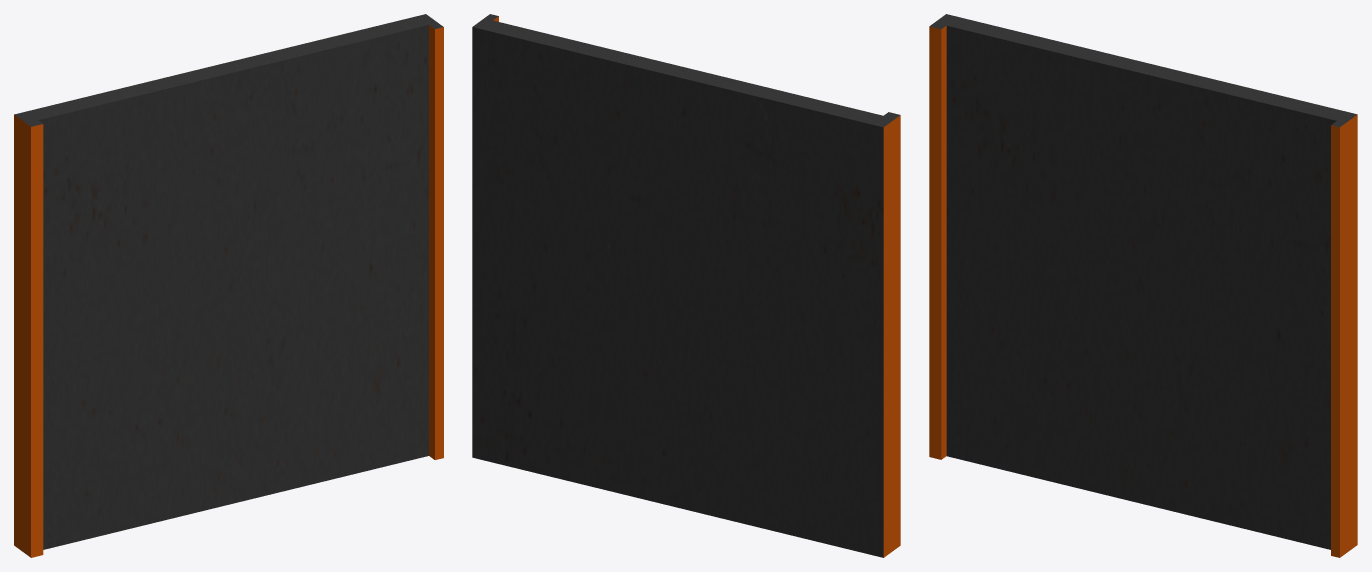
The picture shows the model from 3 angles, left to right: view 1: azimuth 30°, elevation 25°; view 2: azimuth 150°, elevation 25°; view 3: azimuth 330°, elevation 25°; orthographic projection.
Parts seen in each view (by area): view 1: Cube.005; view 2: Cube.005; view 3: Cube.005.
Part boxes in pixels (box(x1,y1,x2,y2)): Cube.005: box(14, 14, 443, 557); Cube.005: box(472, 14, 900, 557); Cube.005: box(929, 14, 1357, 557).
Bounding box in the file's own units: 1.2 × 0.09 × 1.2.
